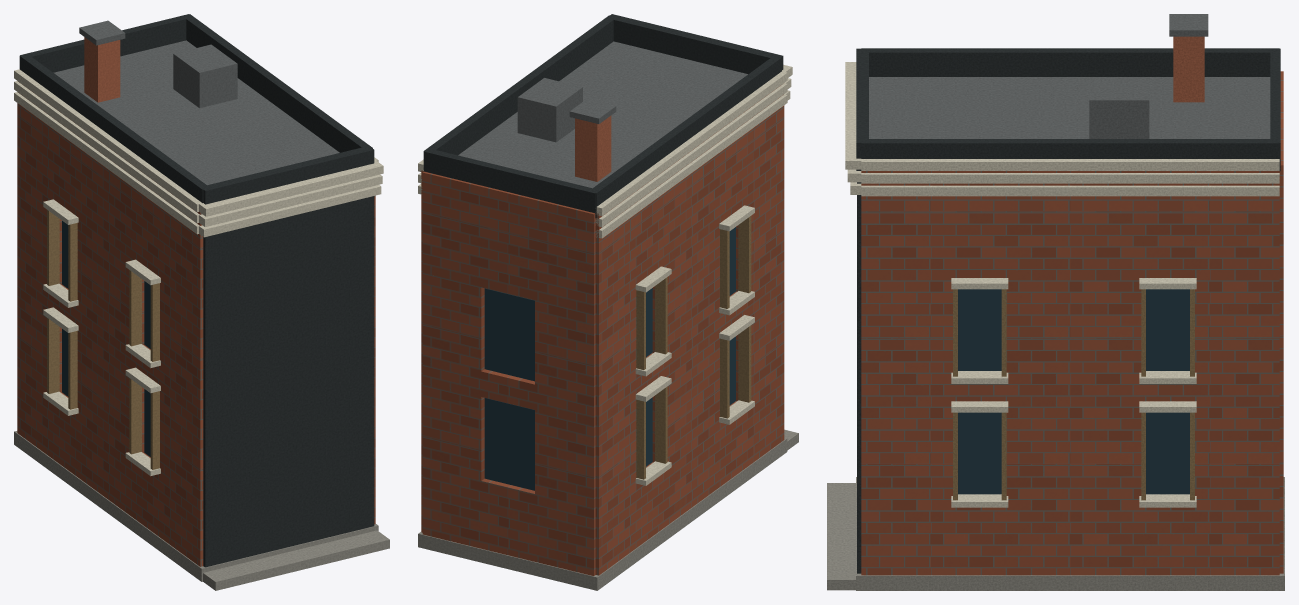
Rendered from WHSE11_lod2.glb.
The picture shows the model from 3 angles, left to right: view 1: azimuth 30°, elevation 25°; view 2: azimuth 150°, elevation 25°; view 3: azimuth 270°, elevation 25°; orthographic projection. The views are drawn at different scales.
Parts seen in each view (by area): view 1: WHSE11_LOD2; view 2: WHSE11_LOD2; view 3: WHSE11_LOD2.
Boxes of the visible parts, x1,y1,x2,y2 form: WHSE11_LOD2: (14,14,389,590); WHSE11_LOD2: (418,14,798,590); WHSE11_LOD2: (827,14,1284,590).
Size of the model in its own units: 3.71 by 7.85 by 6.57.
8 materials, 7 textured.
